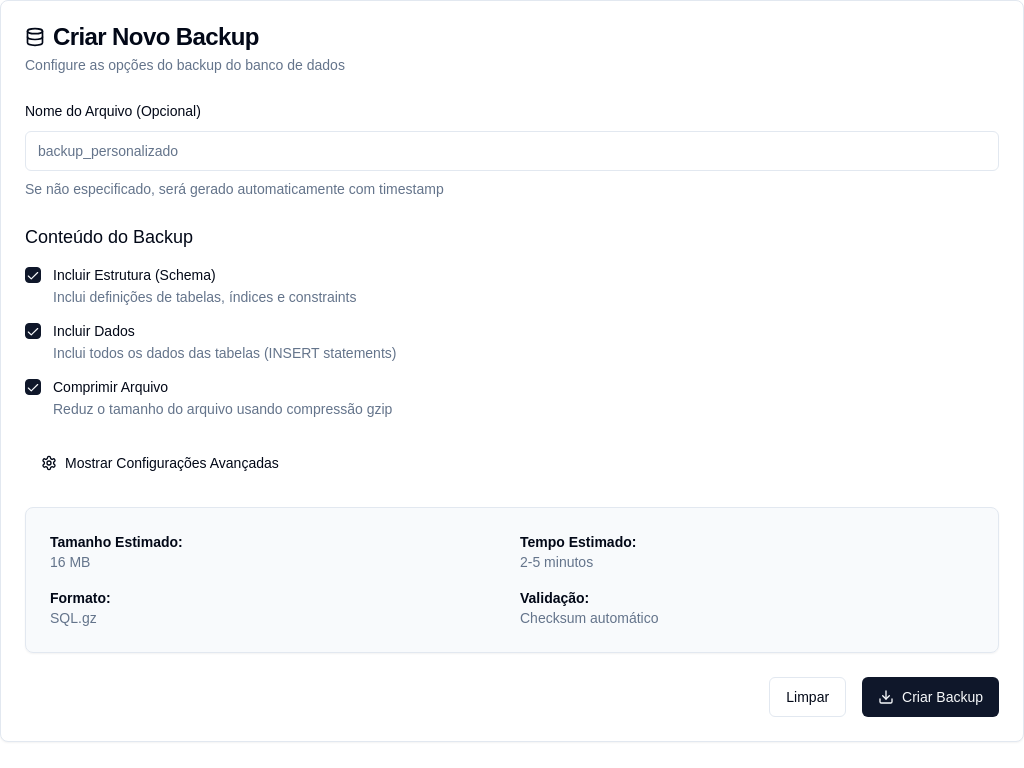
Scenario: CreateBackupForm › deve limpar o formulário quando clicado em Limpar
Type "teste" into the field labelled "Nome do Arquivo (Opcional)" at (512, 151), box x1=25 y1=131 x2=999 y2=171
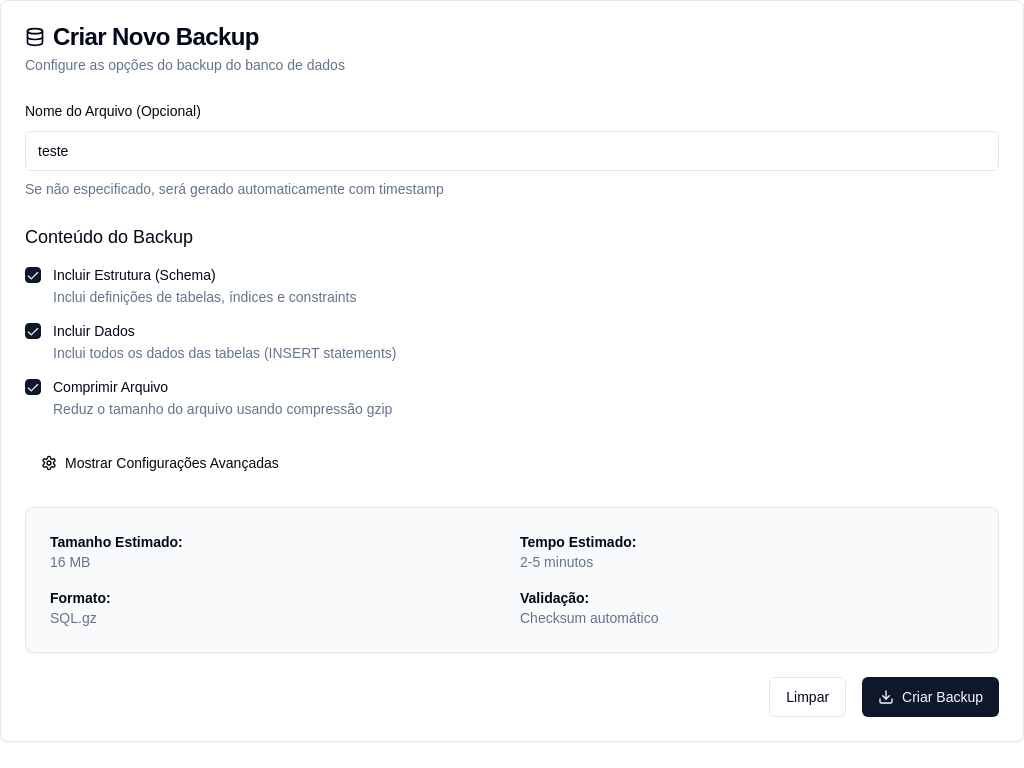
Click the button "Limpar" at (808, 697), box x1=769 y1=677 x2=846 y2=717
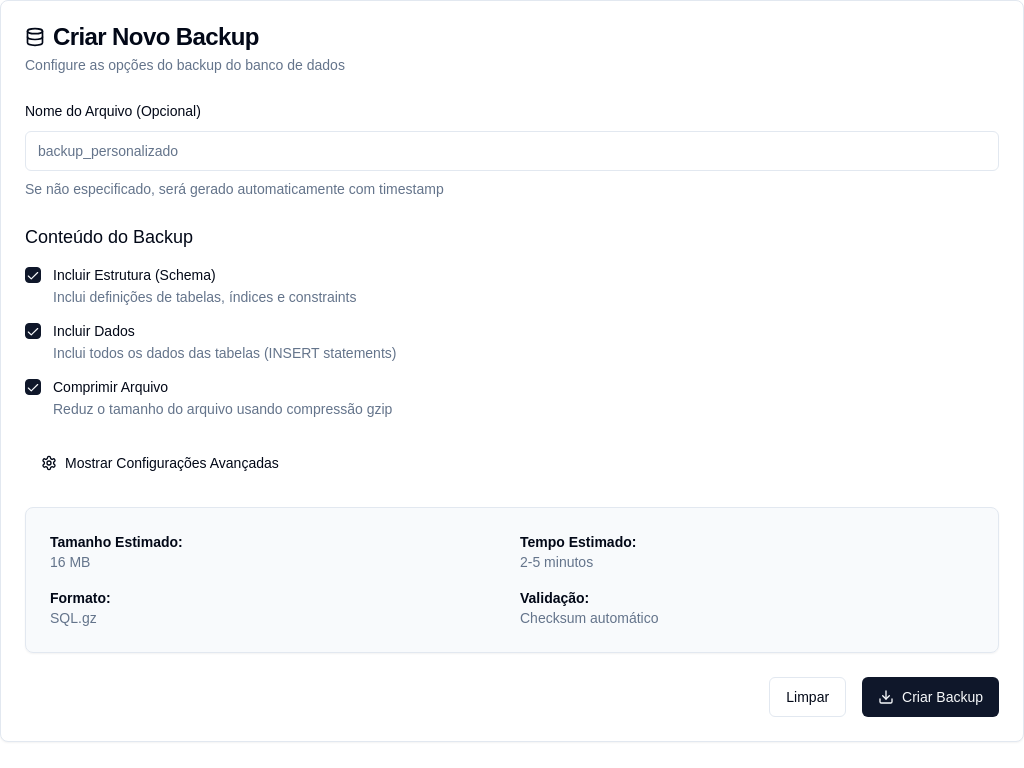
expect the field labelled "Nome do Arquivo (Opcional)" is empty: met, box x1=25 y1=131 x2=999 y2=171
